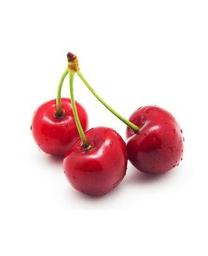cherry: (62, 127, 127, 198), (126, 105, 184, 175), (32, 97, 89, 157)
